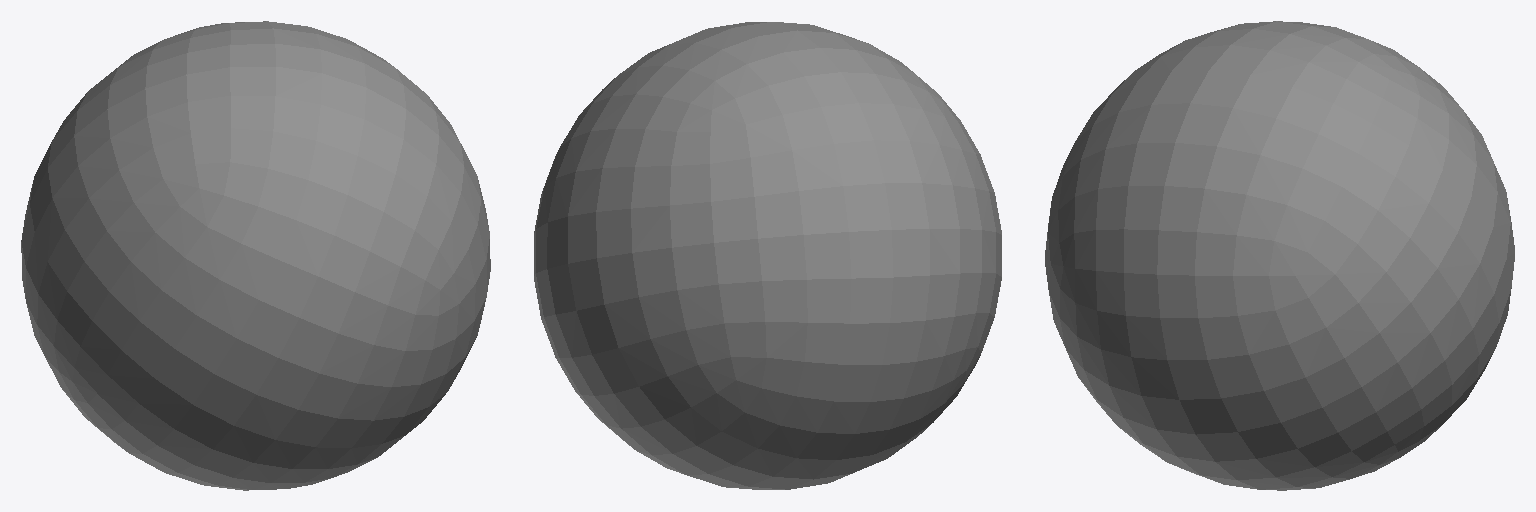
Rendered from Luna.obj.
The picture shows the model from 3 angles: view 1: azimuth 30°, elevation 25°; view 2: azimuth 150°, elevation 25°; view 3: azimuth 270°, elevation 25°; orthographic projection.
Visible parts, largest first — view 1: Moon; view 2: Moon; view 3: Moon.
Part boxes in pixels (x1,y1,x2,y2): Moon: (21,21,490,490); Moon: (534,22,1001,489); Moon: (1045,21,1514,490).
Size of the model in its own units: 14.87 by 14.85 by 14.9.